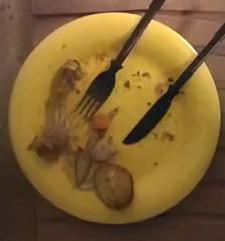pickle: (68, 142, 133, 209)
